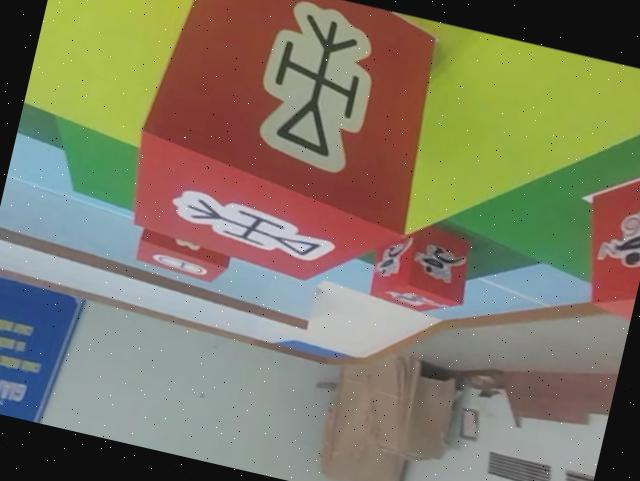R1: (569, 121, 640, 328), (361, 211, 481, 325)
R2 Real: (115, 0, 457, 304)
